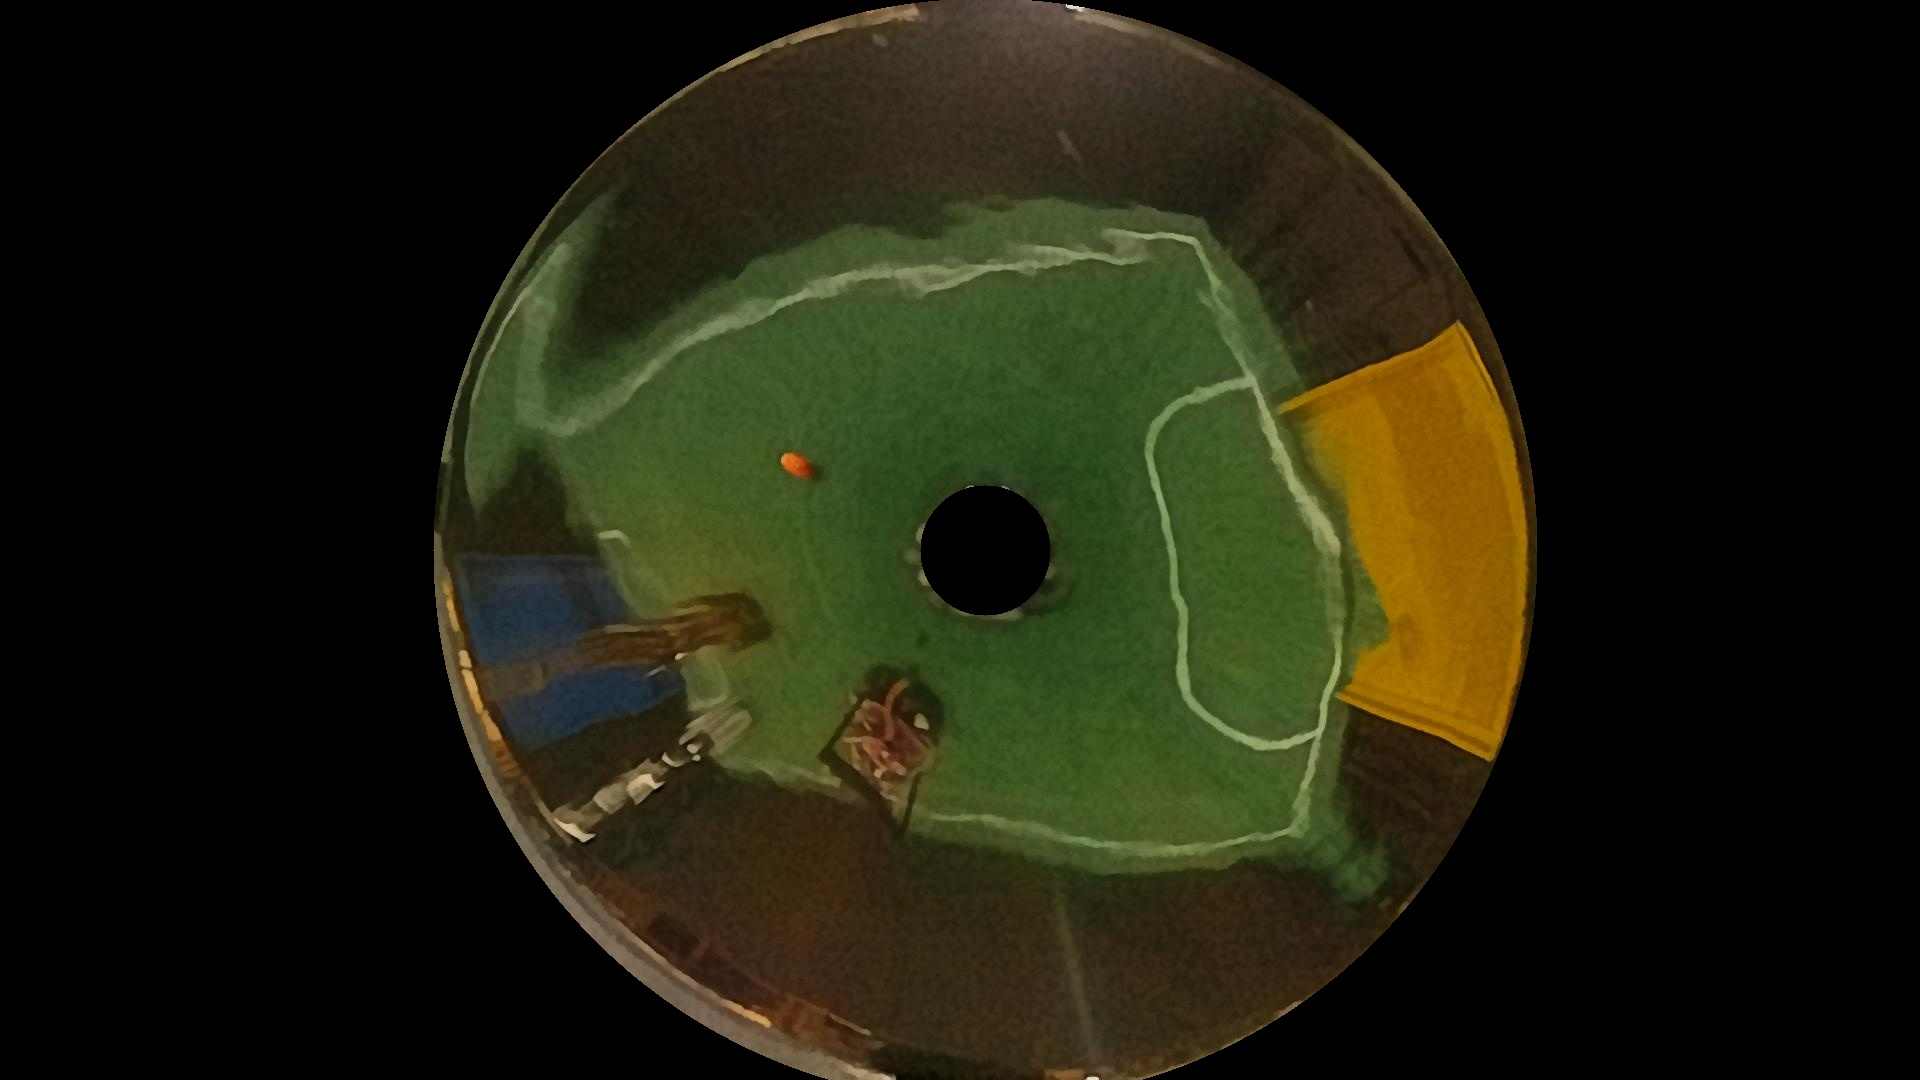ball: (780, 449, 815, 481)
blue-goal: (449, 557, 690, 764)
robots: (819, 673, 946, 839), (585, 589, 771, 676), (621, 719, 756, 812)
yellow-goal: (1274, 321, 1525, 777)
